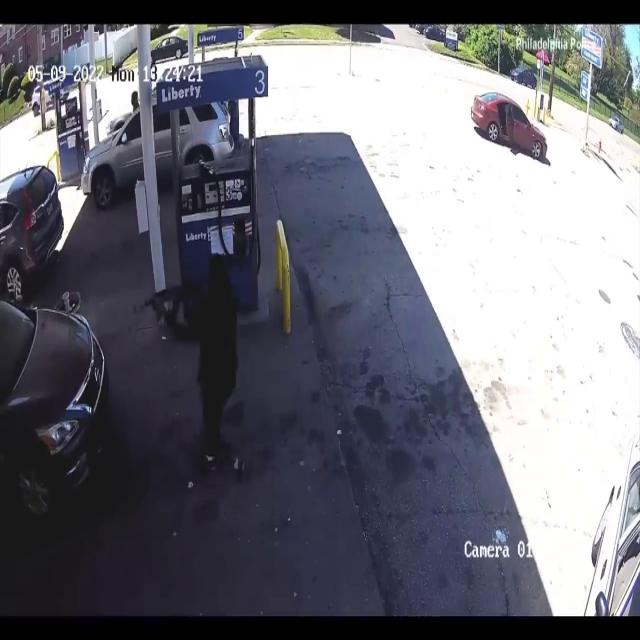penembakan: (140, 255, 258, 482)
